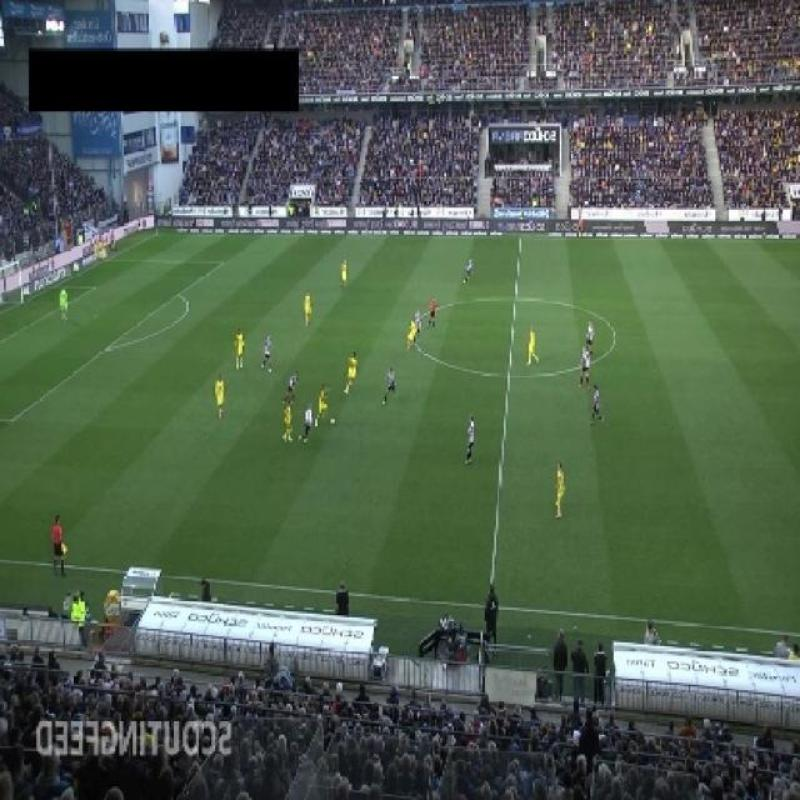1: (148, 224, 168, 240)
10: (171, 287, 187, 303)
11: (99, 338, 117, 358)
12: (4, 408, 24, 431)
13: (511, 226, 529, 246)
14: (506, 282, 526, 310)
15: (498, 358, 523, 386)
2: (101, 248, 118, 266)
3: (46, 280, 60, 294)
7: (86, 278, 103, 298)
9: (217, 254, 233, 272)
c: (604, 325, 624, 349)
